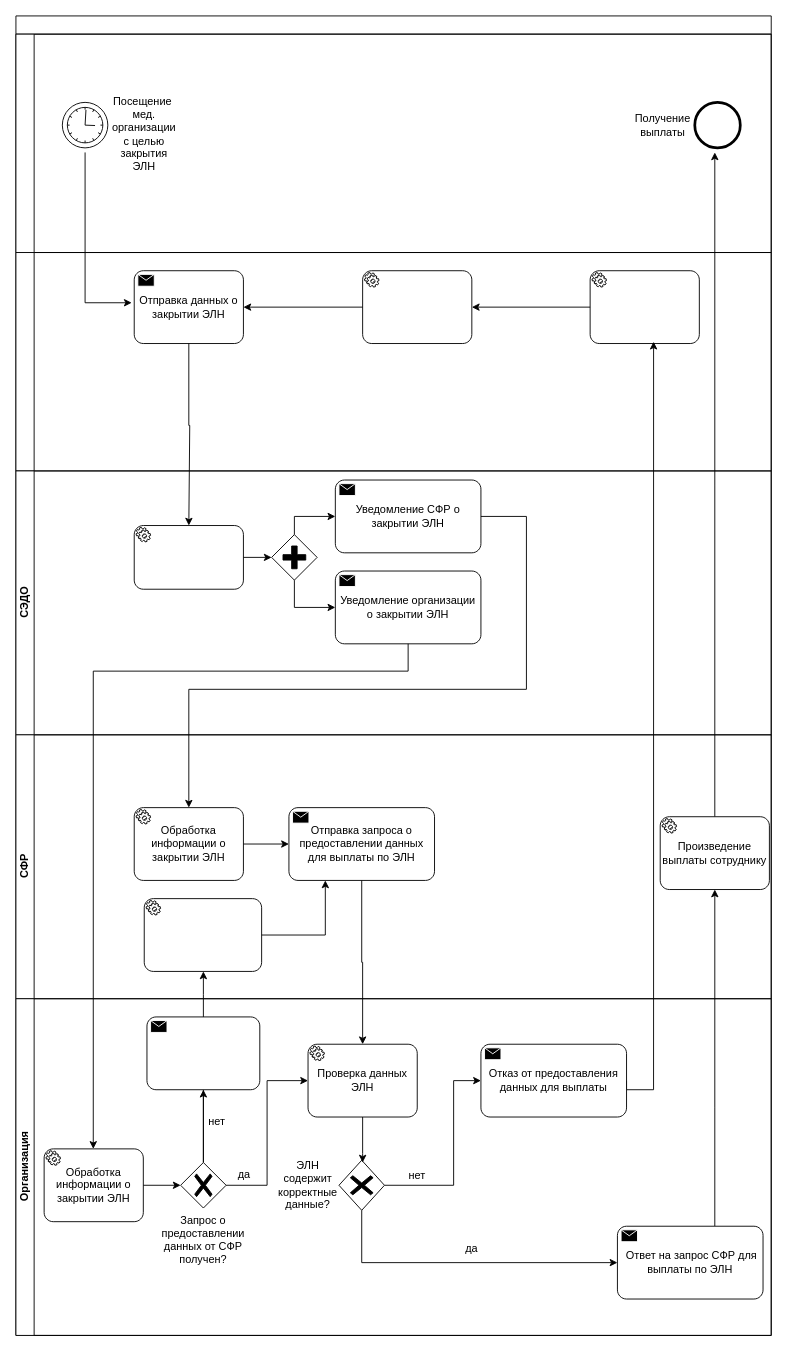
This 787x1351 diagram has some shape labels left out. Here are the shapes that lost their labels. From the top down, the box of each, then its label:
(15, 33, 771, 253): Сотрудник
(362, 270, 472, 344): Создание нового ЭЛН
(589, 270, 699, 344): Аннулирование ЭЛН
(15, 252, 771, 471): Мед организация
(133, 525, 243, 589): Обработка данных об обновлении ЭЛН
(143, 898, 262, 971): Обработка запроса об инициации выплаты по закрытому ЭЛН
(146, 1016, 260, 1090): Запрос об инициации выплаты сотруднику по закрытому ЭЛН
